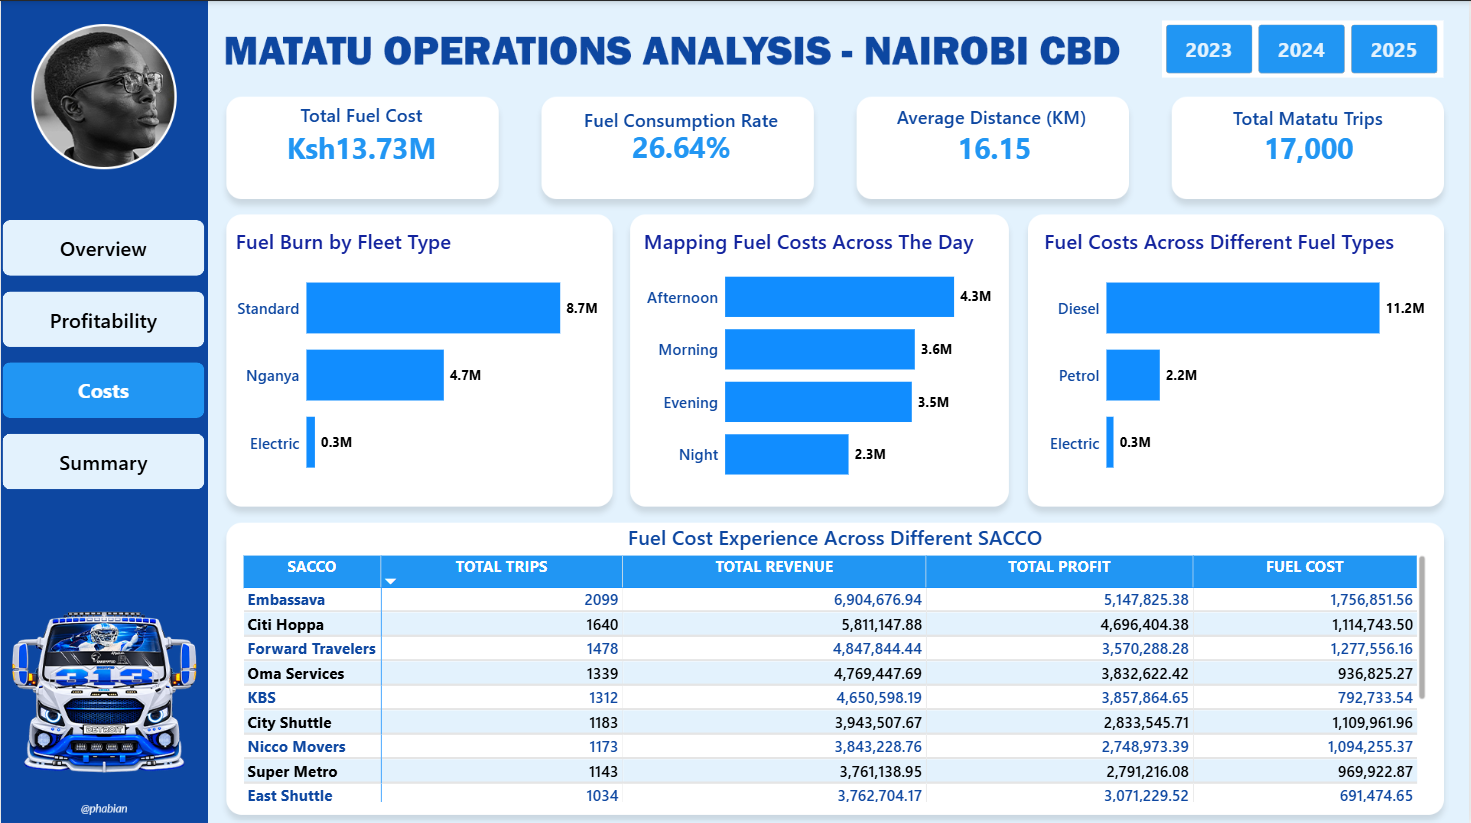

The page's visual inventory and layout, read from the dashboard file:
{"tool":"powerbi","page":{"name":"Costs","canvas":[1920,1080],"ordinal":2},"visuals":[{"type":"cardVisual","fields":{"Data":["public matatu_operation_dataset.Fuel Consumption Rate"]},"box":[716,124,347.5,131.7],"z":0},{"type":"cardVisual","fields":{"Data":["Avg(public matatu_operation_dataset.distance_km_clean)"]},"box":[1124,124,351,132.1],"z":1000},{"type":"cardVisual","fields":{"Data":["public matatu_operation_dataset.Formatted Trips"]},"box":[1536,124,348.9,132.1],"z":2000},{"type":"cardVisual","fields":{"Data":["public matatu_operation_dataset.Total fuel Cost"]},"box":[296,124,350,132],"z":3000},{"type":"textbox","box":[772,676,636,58],"z":4000},{"type":"textbox","box":[1358.2,290.7,508.8,59.1],"z":5000},{"type":"textbox","box":[835.5,290.3,463.3,59.1],"z":6000},{"type":"textbox","box":[302,290.3,463.3,59.1],"z":7000},{"type":"textbox","box":[739.6,134.2,299.4,59.9],"z":8000},{"type":"textbox","box":[1559.7,130.6,299.4,59.9],"z":9000},{"type":"textbox","box":[321.6,127.6,299.4,59.9],"z":10000},{"type":"textbox","box":[1145,129.7,299.4,59.9],"z":11000},{"type":"advancedSlicerVisual","fields":{"Values":["Date.Year"]},"box":[1517.2,25,368,75],"z":12000},{"type":"pageNavigator","box":[2.2,286.1,264.1,352.2],"z":13000},{"type":"clusteredBarChart","fields":{"Category":["public matatu_operation_dataset.vehicle_type"],"Y":["public matatu_operation_dataset.Total fuel Cost"]},"box":[302.1,320.3,483.8,333.9],"z":14000},{"type":"clusteredBarChart","fields":{"Category":["public matatu_operation_dataset.time_of_day"],"Y":["public matatu_operation_dataset.Total fuel Cost"]},"box":[838.1,320.3,463.3,333.9],"z":15000},{"type":"clusteredBarChart","fields":{"Y":["public matatu_operation_dataset.Total fuel Cost"],"Category":["public matatu_operation_dataset.fuel_type"]},"box":[1365.1,320.3,502,333.9],"z":16000},{"type":"pivotTable","fields":{"Rows":["public matatu_operation_dataset.sacco"],"Values":["public matatu_operation_dataset.Total Trips","public matatu_operation_dataset.Total Revenue","public matatu_operation_dataset.Total Profit","public matatu_operation_dataset.Total fuel Cost"]},"box":[311.2,720,1555.8,331.6],"z":17000}]}

Visuals, with their boxes in screenshot pixels (x1, y1, x2, y2), scaled from the page's 1920x1080 canvas onto the 1471x823 screenshot:
cardVisual - public matatu_operation_dataset.Fuel Consumption Rate: locate(549, 94, 815, 195)
cardVisual - Avg(public matatu_operation_dataset.distance_km_clean): locate(861, 94, 1130, 195)
cardVisual - public matatu_operation_dataset.Formatted Trips: locate(1177, 94, 1444, 195)
cardVisual - public matatu_operation_dataset.Total fuel Cost: locate(227, 94, 495, 195)
textbox: locate(591, 515, 1079, 559)
textbox: locate(1041, 222, 1430, 267)
textbox: locate(640, 221, 995, 266)
textbox: locate(231, 221, 586, 266)
textbox: locate(567, 102, 796, 148)
textbox: locate(1195, 100, 1424, 145)
textbox: locate(246, 97, 476, 143)
textbox: locate(877, 99, 1107, 144)
advancedSlicerVisual - Date.Year: locate(1162, 19, 1444, 76)
pageNavigator: locate(2, 218, 204, 486)
clusteredBarChart - public matatu_operation_dataset.vehicle_type x public matatu_operation_dataset.Total fuel Cost: locate(231, 244, 602, 499)
clusteredBarChart - public matatu_operation_dataset.time_of_day x public matatu_operation_dataset.Total fuel Cost: locate(642, 244, 997, 499)
clusteredBarChart - public matatu_operation_dataset.Total fuel Cost x public matatu_operation_dataset.fuel_type: locate(1046, 244, 1430, 499)
pivotTable - public matatu_operation_dataset.sacco x public matatu_operation_dataset.Total Trips: locate(238, 549, 1430, 801)
